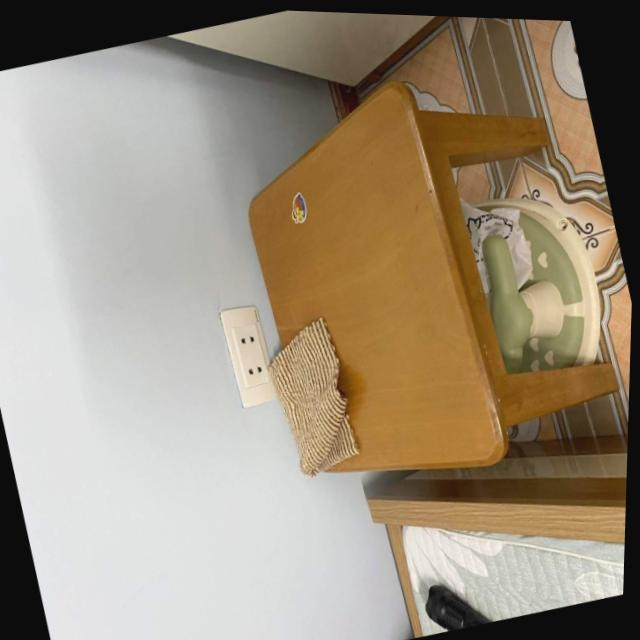outlet: (215, 300, 282, 410)
